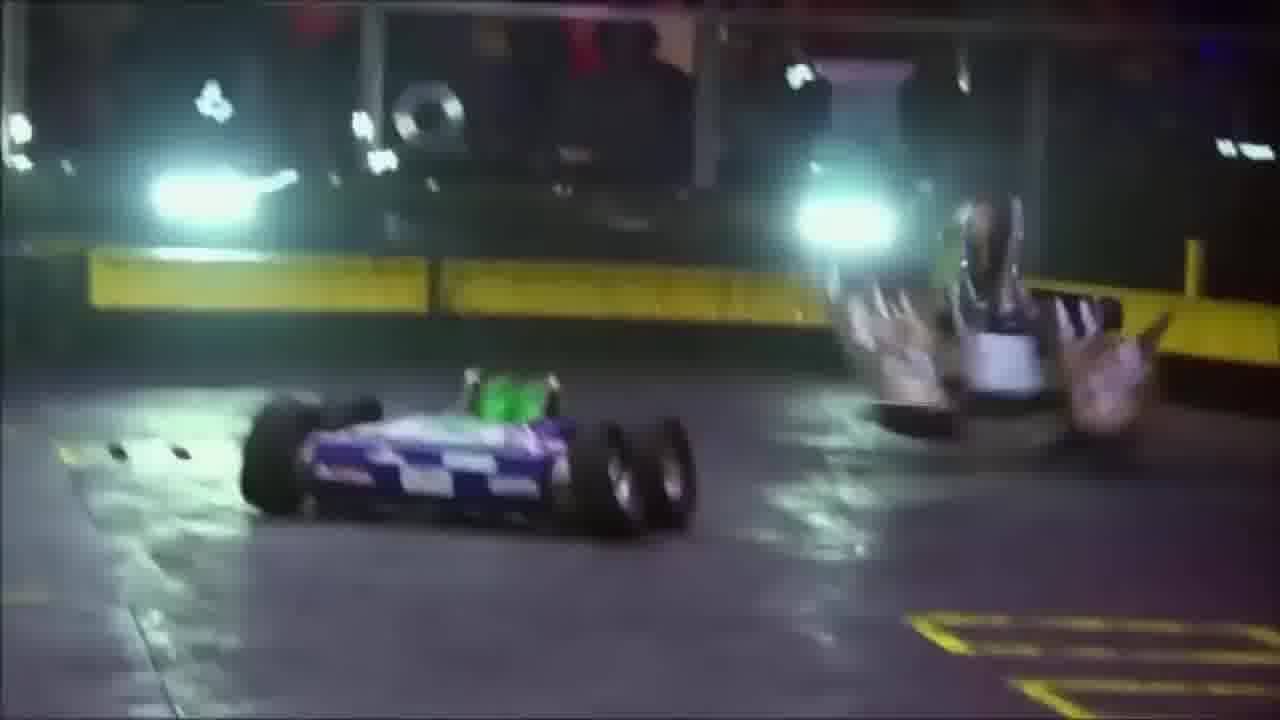combatbot: (834, 190, 1176, 468), (238, 371, 701, 539)
